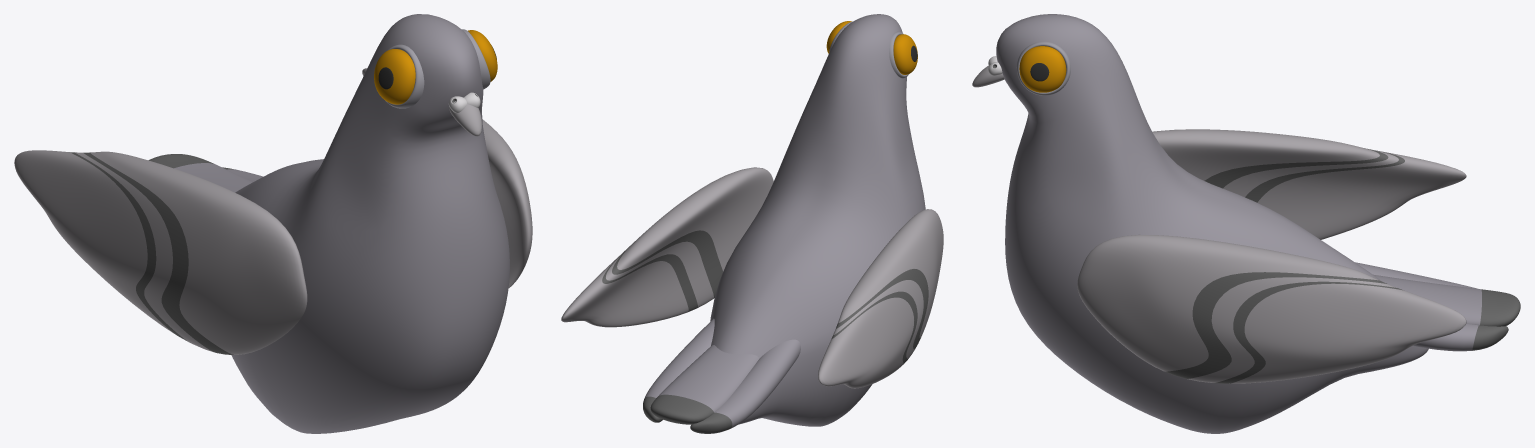
Rendered from FlyingPigeon.fbx.
3 views of the same model, side by side, from view 1: azimuth 30°, elevation 25°; view 2: azimuth 150°, elevation 25°; view 3: azimuth 270°, elevation 25° (orthographic). The views are drawn at different scales.
Visible parts, largest first — view 1: polySurface71, polySurface74, polySurface73, polySurface72, polySurface76, polySurface68, polySurface56, polySurface75; view 2: polySurface71, polySurface73, polySurface74, polySurface72, polySurface76; view 3: polySurface71, polySurface73, polySurface74, polySurface72, polySurface75, polySurface67.
Part boxes in pixels (x1=…): polySurface71: x1=231, y1=14, x2=509, y2=433; polySurface74: x1=14, y1=150, x2=307, y2=354; polySurface73: x1=362, y1=68, x2=532, y2=288; polySurface72: x1=148, y1=154, x2=263, y2=192; polySurface76: x1=374, y1=49, x2=415, y2=104; polySurface68: x1=386, y1=44, x2=424, y2=108; polySurface56: x1=449, y1=104, x2=481, y2=136; polySurface75: x1=468, y1=30, x2=497, y2=81; polySurface71: x1=710, y1=14, x2=925, y2=426; polySurface73: x1=561, y1=167, x2=773, y2=327; polySurface74: x1=818, y1=209, x2=943, y2=388; polySurface72: x1=643, y1=318, x2=800, y2=433; polySurface76: x1=893, y1=34, x2=917, y2=74; polySurface71: x1=996, y1=14, x2=1428, y2=433; polySurface73: x1=1077, y1=234, x2=1466, y2=383; polySurface74: x1=1152, y1=129, x2=1466, y2=239; polySurface72: x1=1355, y1=262, x2=1520, y2=351; polySurface75: x1=1019, y1=46, x2=1066, y2=92; polySurface67: x1=1016, y1=41, x2=1070, y2=95.
Size of the model in its own units: 6.28 by 7.61 by 9.45.
